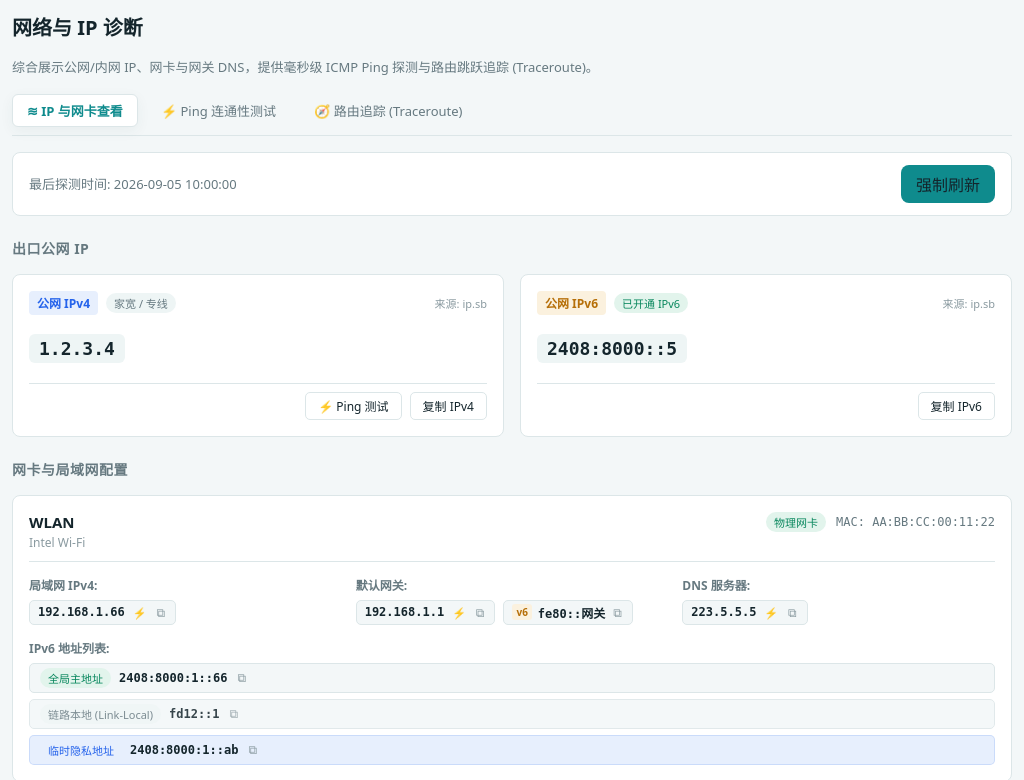
Test: PublicIpView Ping Tab › 发起 Ping：默认目标与次数；结果行含成功/超时态
The image size is (1024, 780).
Click the button with class "tab-item" showing "⚡ Ping 连通性测试" at (218, 110), box [146,94,291,127]
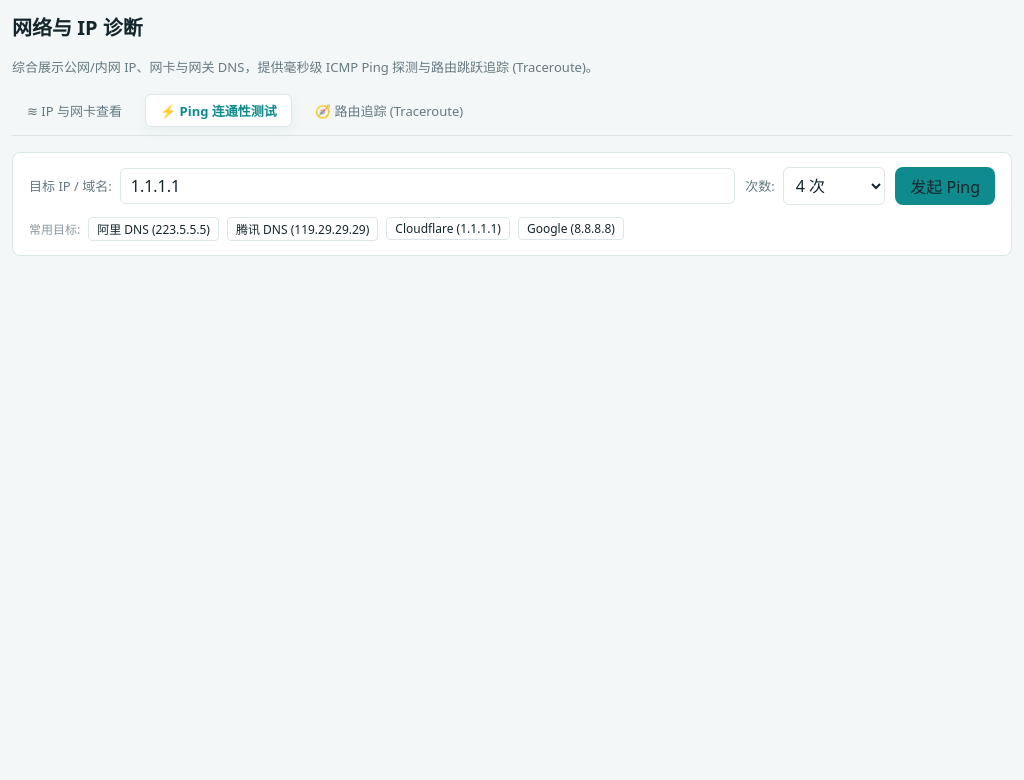
Click the button "发起 Ping" at (945, 186), box [895,167,995,205]
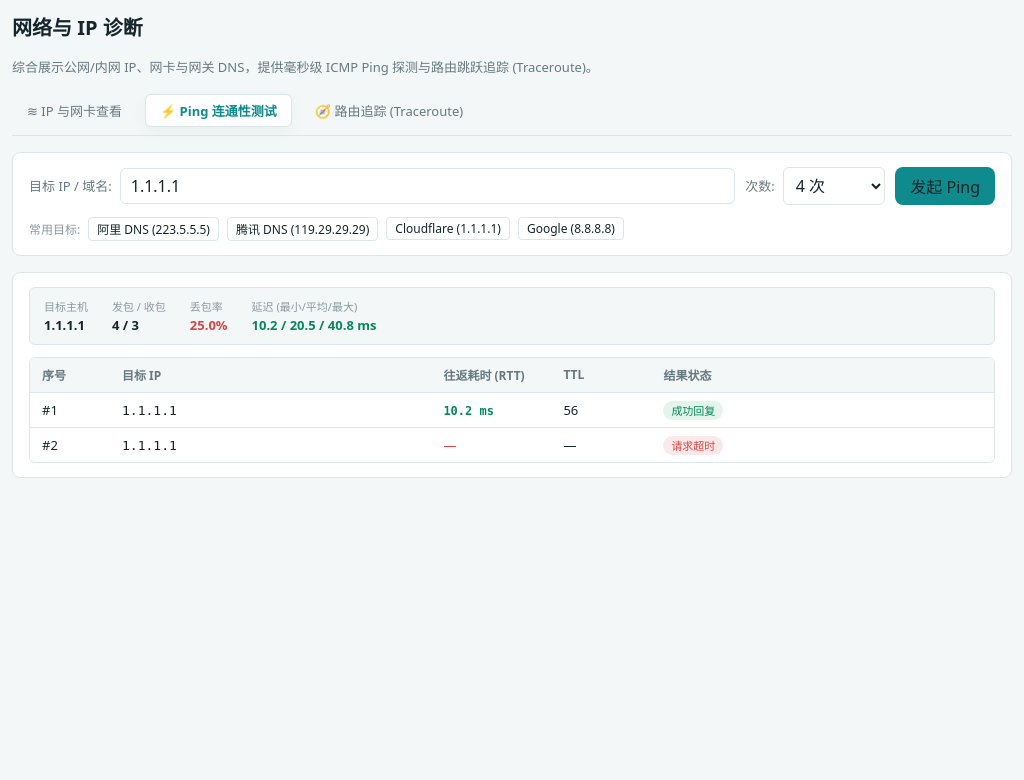
Check: the element with class "diag-summary-bar" shows "4 / 3", box [112,316,139,334]
Check: the text "25.0%" is shown, box [190,316,228,334]
Check: the row "#2 1.1.1.1 — — 请求超时" is shown, box [30,427,994,462]
